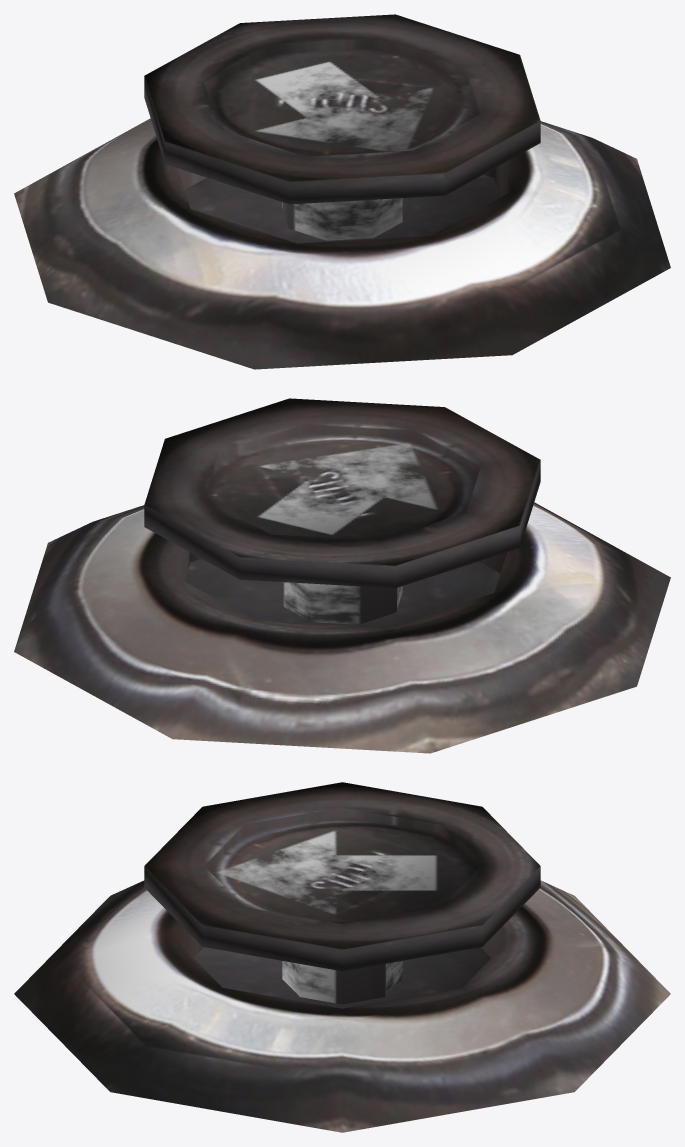
Rendered from button-down2.glb.
The picture shows the model from 3 angles, top to bottom: view 1: azimuth 30°, elevation 25°; view 2: azimuth 150°, elevation 25°; view 3: azimuth 270°, elevation 25°; orthographic projection. The views are drawn at different scales.
Visible parts, largest first — view 1: down2-base, down2-b; view 2: down2-base, down2-b; view 3: down2-base, down2-b.
Part boxes in pixels (x1=…): down2-base: x1=14, y1=118, x2=670, y2=369; down2-b: x1=144, y1=14, x2=540, y2=240; down2-base: x1=14, y1=502, x2=670, y2=753; down2-b: x1=144, y1=398, x2=540, y2=624; down2-base: x1=14, y1=880, x2=670, y2=1132; down2-b: x1=144, y1=782, x2=540, y2=1004.
Bounding box in the file's own units: 1.63 × 0.3513 × 1.63.
1 material, 1 textured.
